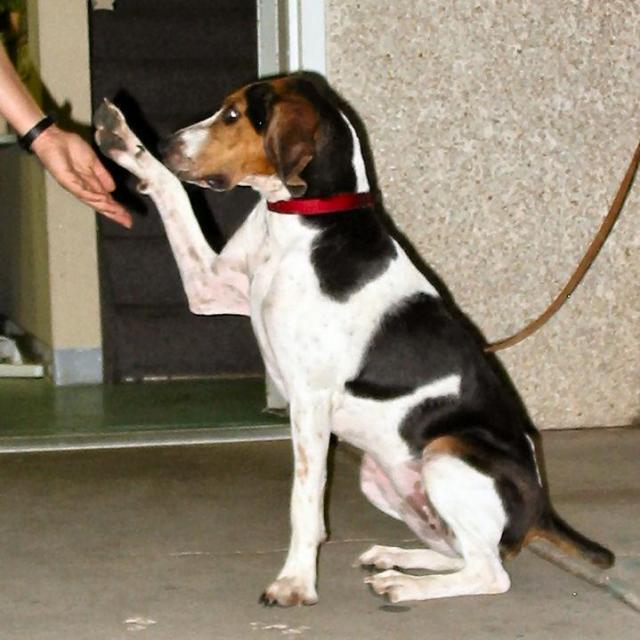sitting: (87, 65, 620, 608)
